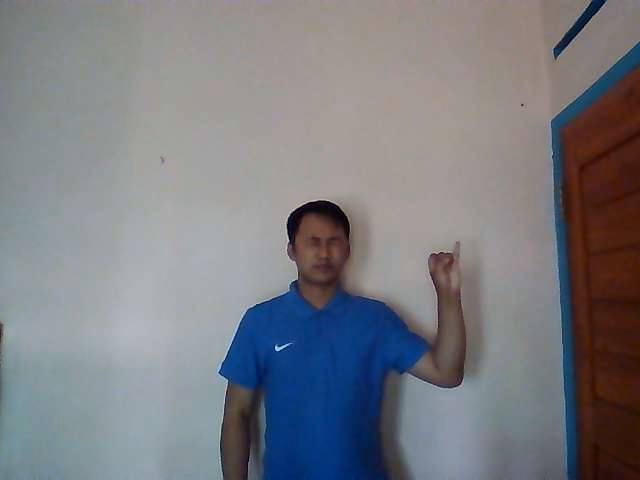I: (428, 239, 464, 292)
